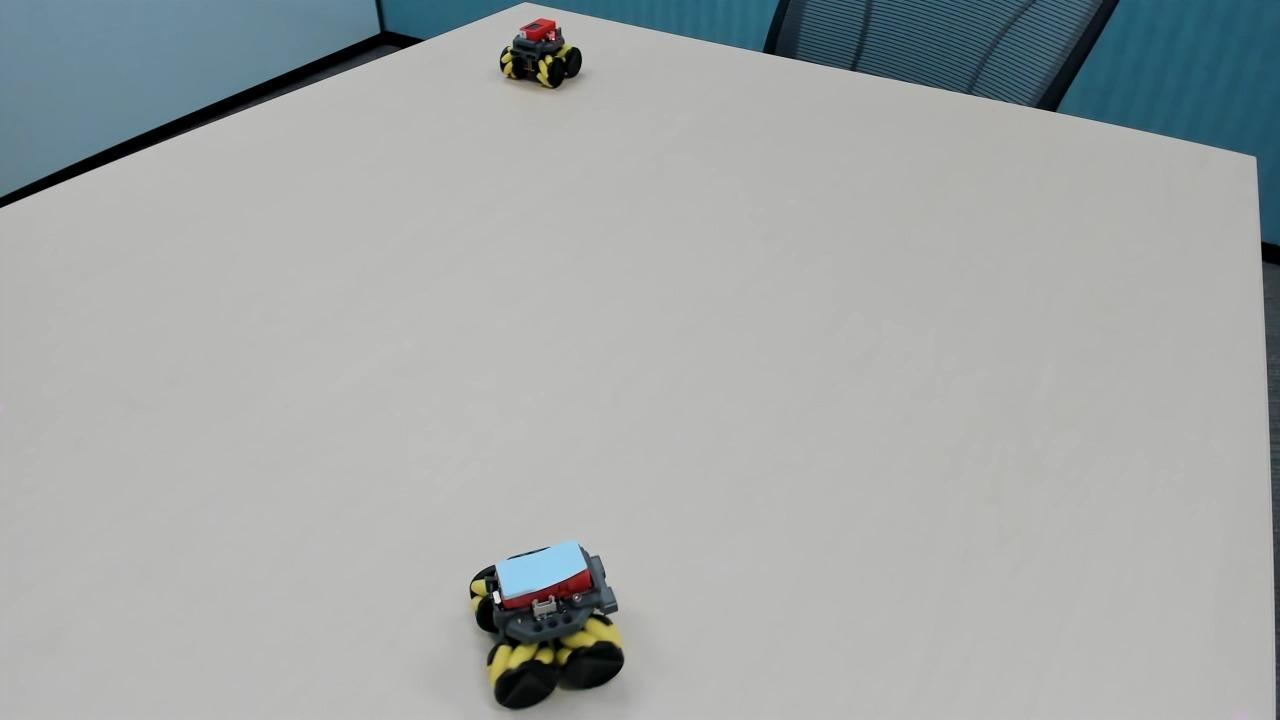B-Robot: (465, 534, 641, 713)
R-Robot: (492, 7, 600, 118)
